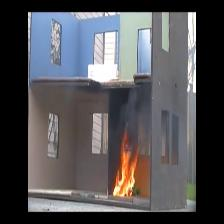fire: (115, 148, 138, 195)
smoke: (123, 90, 140, 121)
